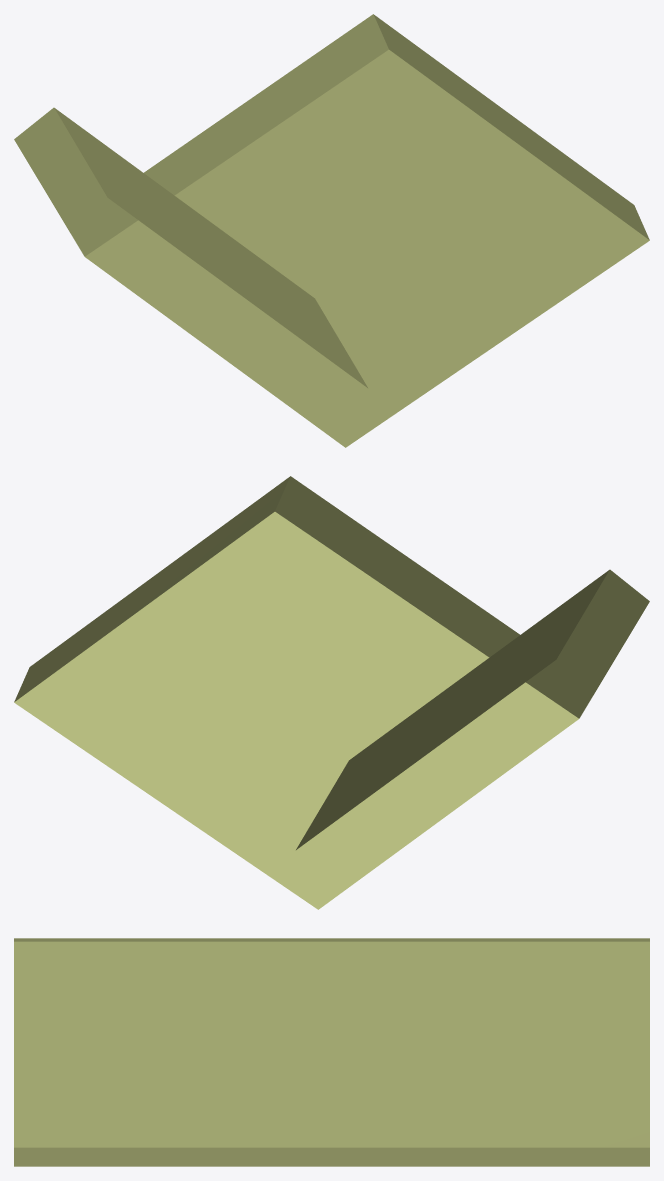
3 renders of one model, top to bottom at view 1: azimuth 30°, elevation 25°; view 2: azimuth 150°, elevation 25°; view 3: azimuth 270°, elevation 25°, orthographic. The views are drawn at different scales.
Parts seen in each view (by area): view 1: 0_1_3_2_1_2_1_2_1_0; view 2: 0_1_3_2_1_2_1_2_1_0; view 3: 0_1_3_2_1_2_1_2_1_0.
Boxes of the visible parts, x1,y1,x2,y2 form: 0_1_3_2_1_2_1_2_1_0: [14, 14, 649, 447]; 0_1_3_2_1_2_1_2_1_0: [14, 476, 649, 909]; 0_1_3_2_1_2_1_2_1_0: [14, 938, 649, 1166].
Size of the model in its own units: 7.47 by 3.28 by 9.
